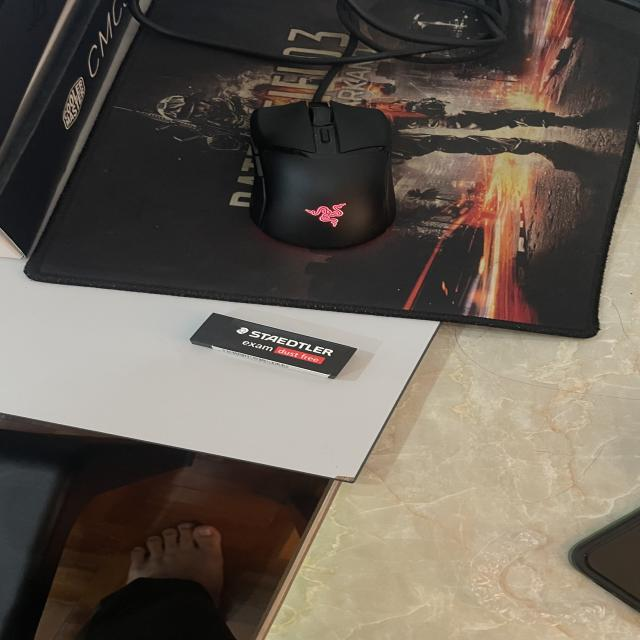eraser: (190, 313, 357, 379)
